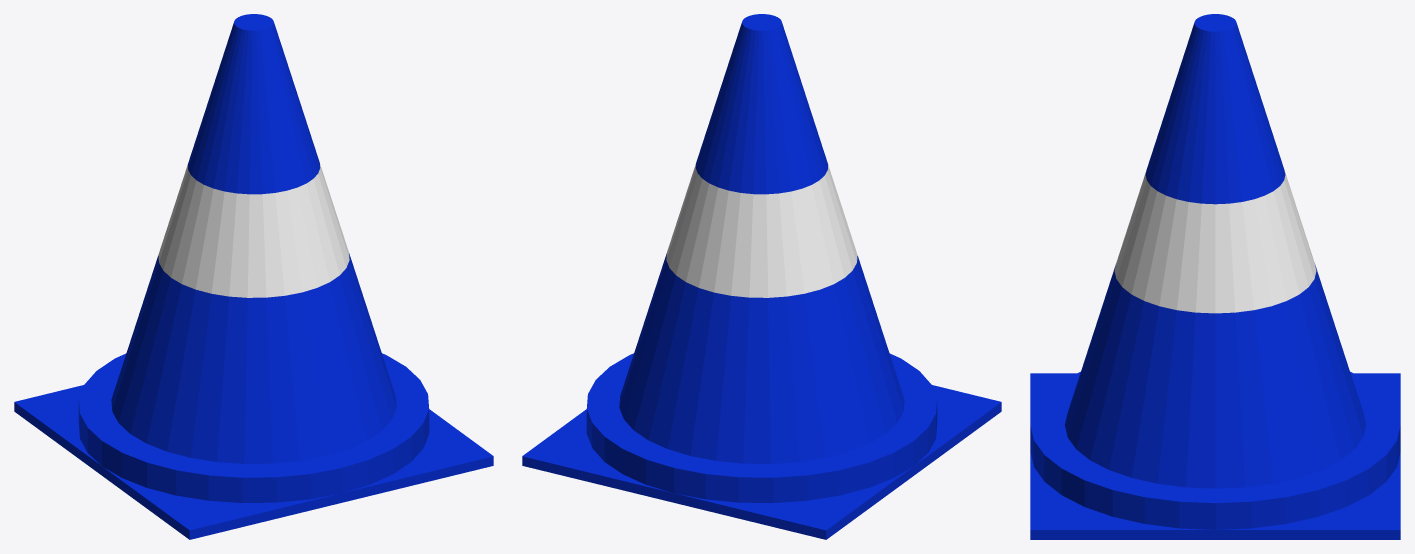
File: blue_cone.dae
3 renders of one model, left to right at view 1: azimuth 30°, elevation 25°; view 2: azimuth 150°, elevation 25°; view 3: azimuth 270°, elevation 25°, orthographic. The views are drawn at different scales.
Parts seen in each view (by area): view 1: Cone, Base_Cylinder, Cone_Stripe, Base; view 2: Cone, Base_Cylinder, Cone_Stripe, Base; view 3: Cone, Base_Cylinder, Cone_Stripe, Base.
Part boxes in pixels (box(x1,y1,x2,y2)): Cone: box(111, 14, 396, 463); Base_Cylinder: box(78, 353, 429, 502); Cone_Stripe: box(158, 164, 349, 297); Base: box(14, 385, 493, 539); Cone: box(619, 14, 904, 463); Base_Cylinder: box(586, 353, 937, 502); Cone_Stripe: box(666, 164, 857, 297); Base: box(522, 385, 1001, 539); Cone: box(1065, 14, 1365, 488); Base_Cylinder: box(1030, 371, 1400, 532); Cone_Stripe: box(1114, 171, 1316, 313); Base: box(1030, 373, 1400, 539).
Bounding box in the file's own units: 0.228 × 0.228 × 0.2982.
